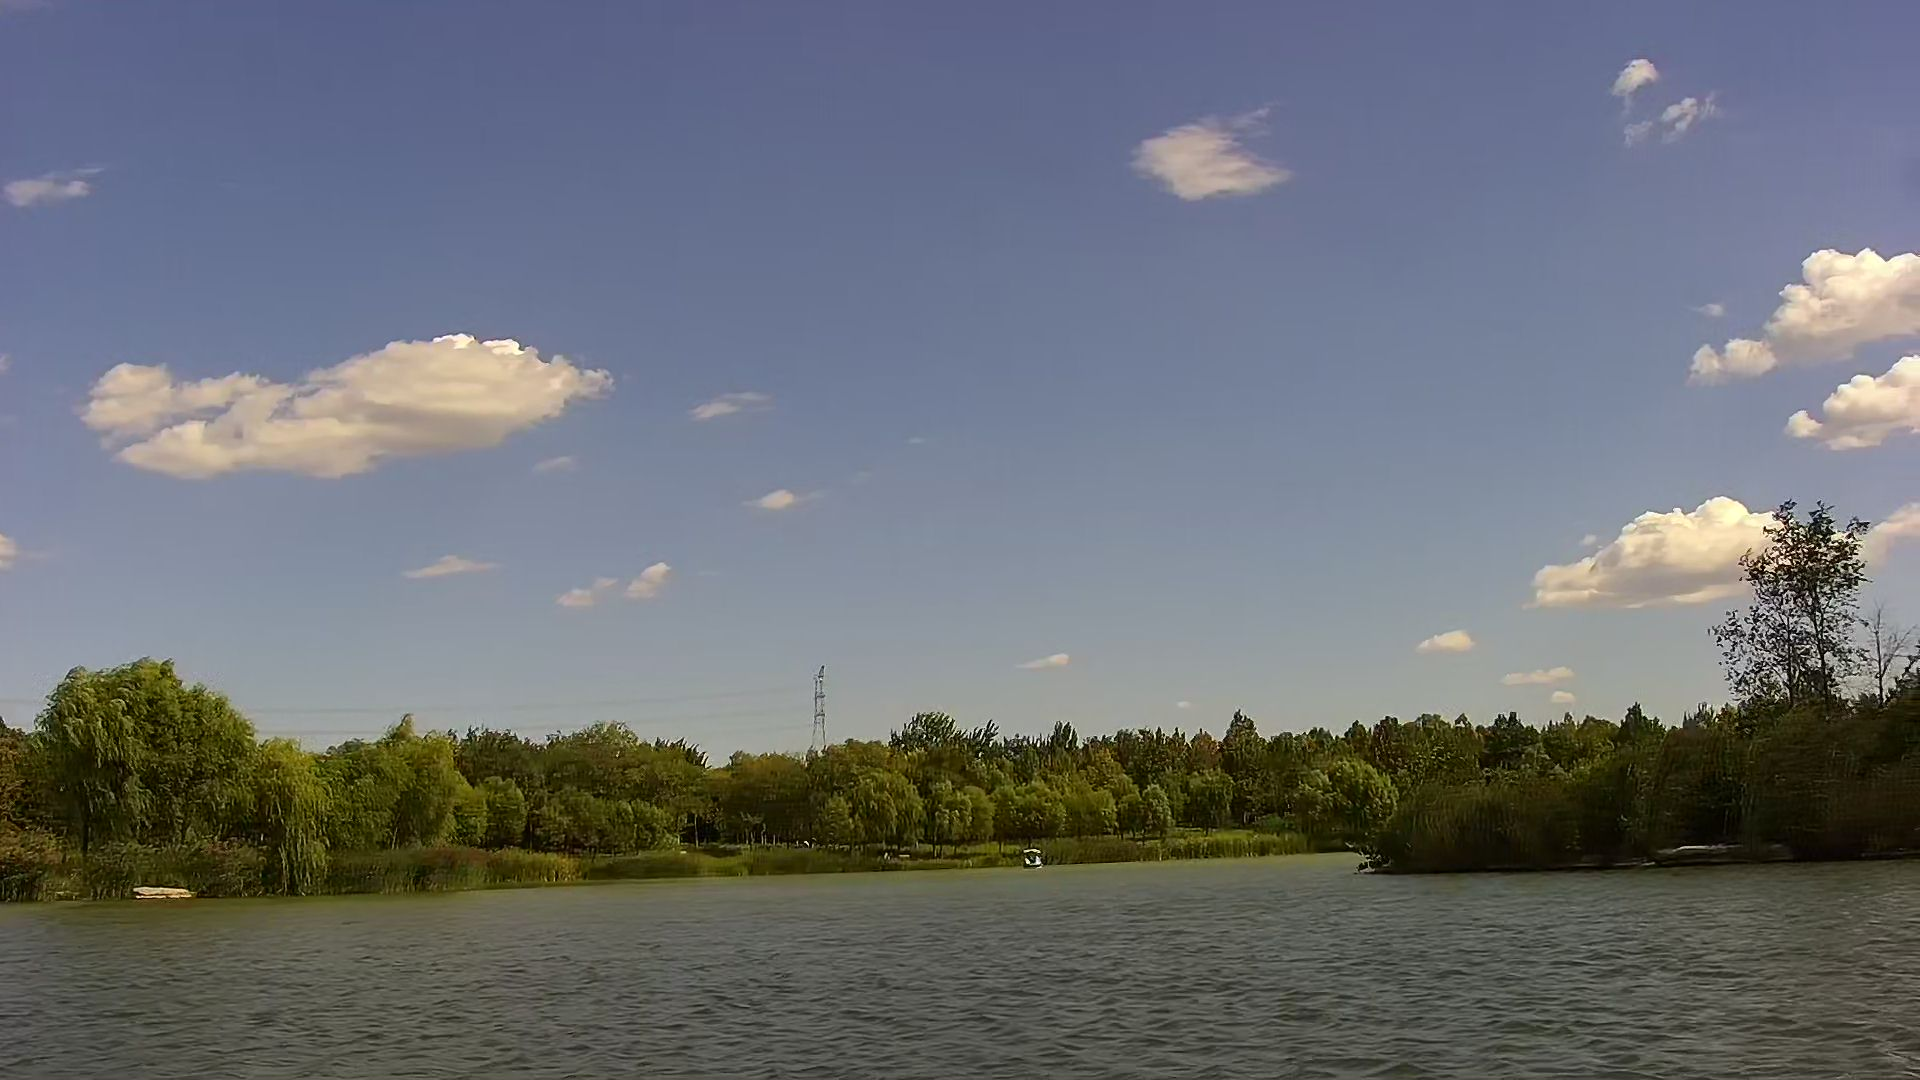boat: (1021, 845, 1043, 865)
rock: (1669, 837, 1775, 866), (129, 884, 189, 897)
